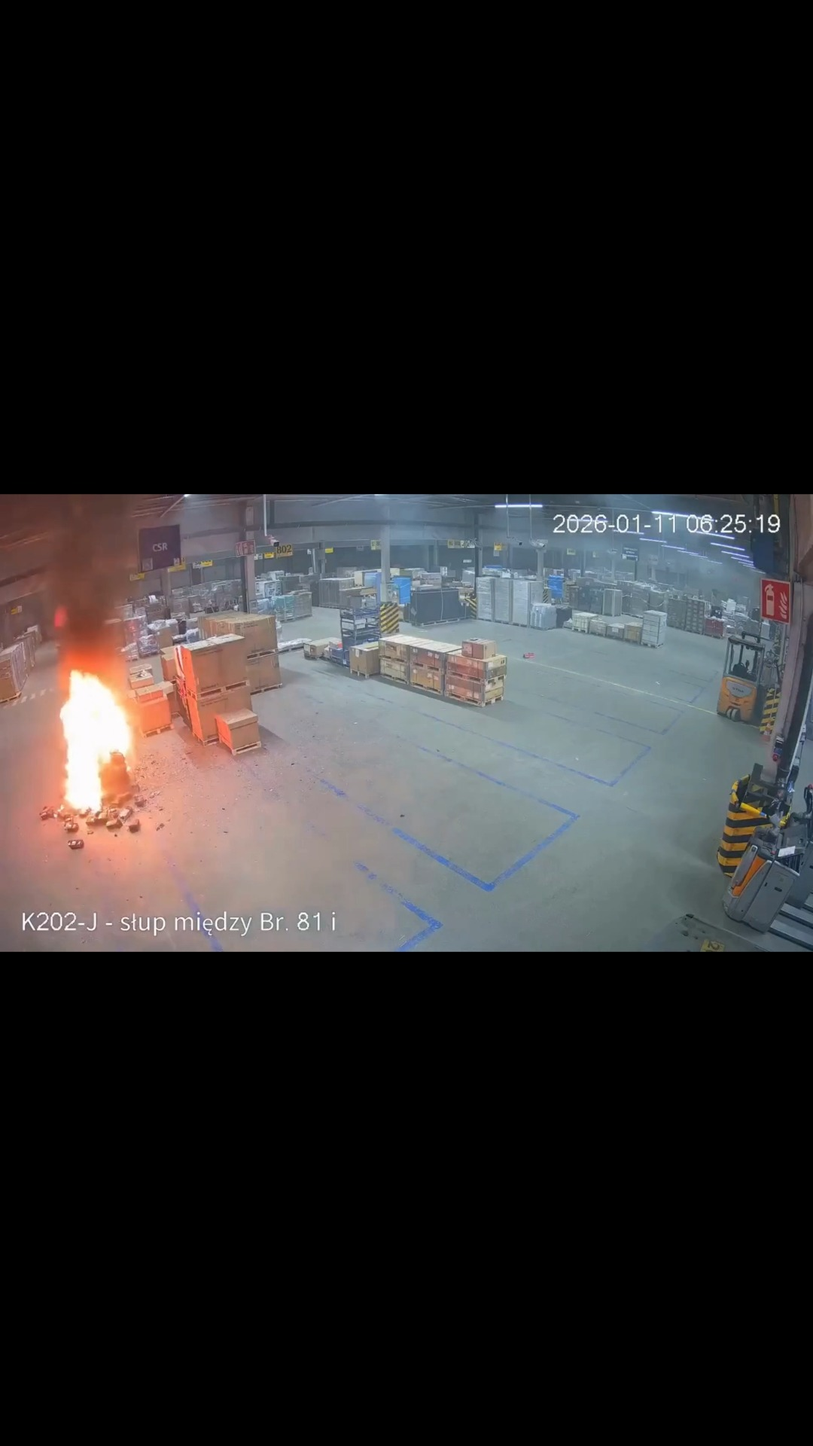fire: (57, 662, 137, 817)
smoke: (1, 495, 145, 688)
